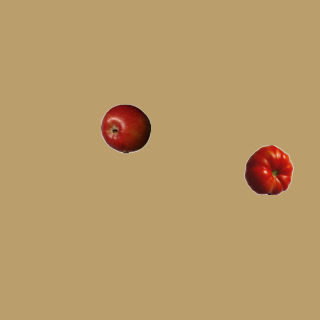Apple Braeburn: (100, 103, 150, 153)
Tomato 3: (243, 144, 293, 194)
